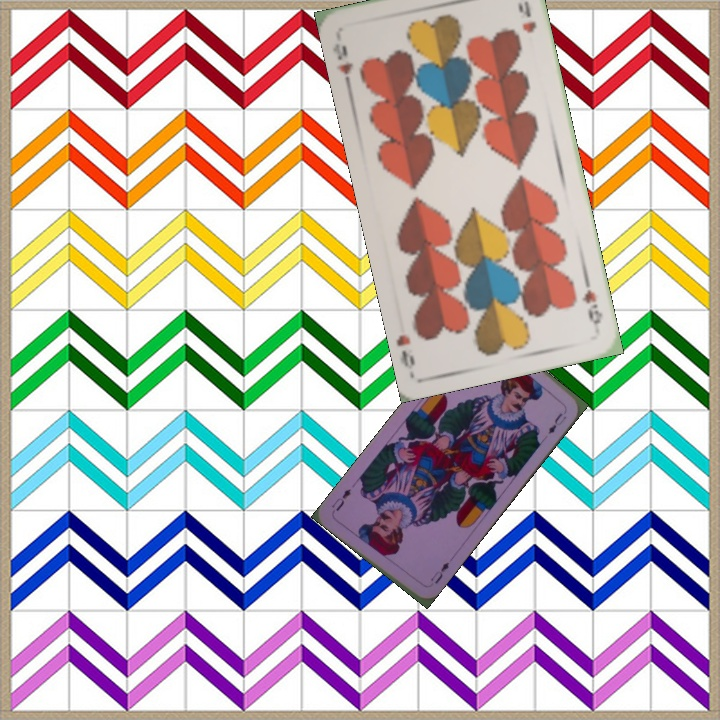EU: (426, 558, 452, 586)
H9: (329, 39, 356, 91), (577, 286, 605, 333)
